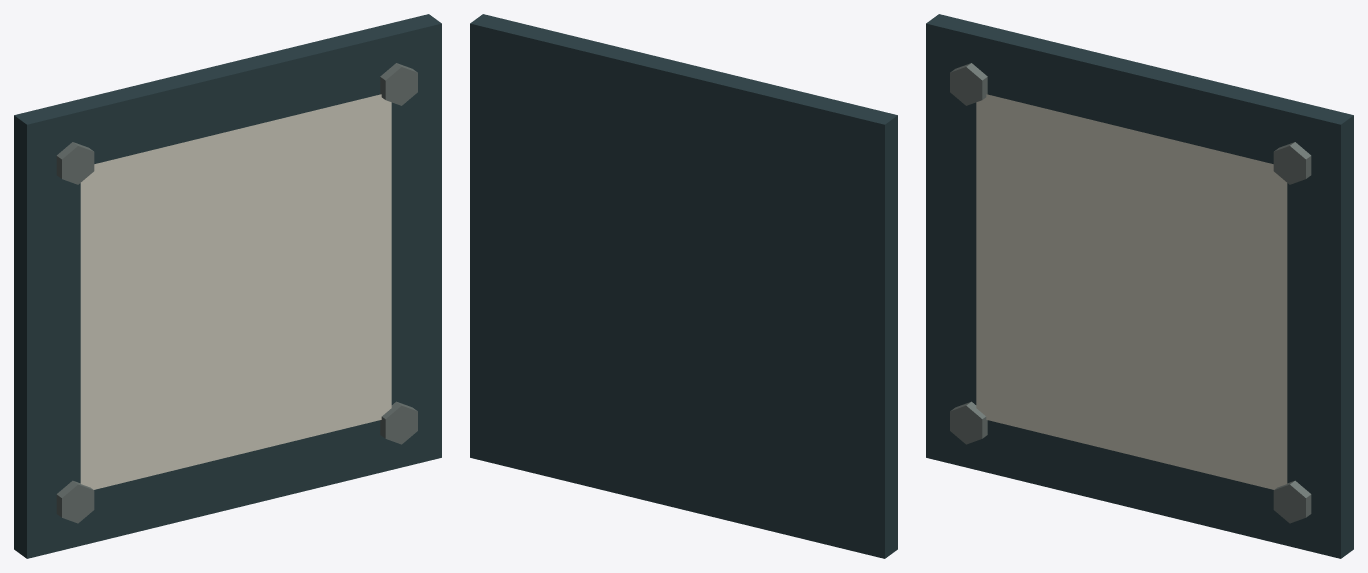
The model's file is number-plate.glb.
3 renders of one model, left to right at view 1: azimuth 30°, elevation 25°; view 2: azimuth 150°, elevation 25°; view 3: azimuth 330°, elevation 25°, orthographic.
Parts seen in each view (by area): view 1: number-plate__number-plate__decal-ivory, number-plate__number-plate__steel, number-plate__number-plate__hardware; view 2: number-plate__number-plate__steel; view 3: number-plate__number-plate__decal-ivory, number-plate__number-plate__steel, number-plate__number-plate__hardware.
Part boxes in pixels (x1,y1,x2,y2): number-plate__number-plate__decal-ivory: (80, 94, 391, 489); number-plate__number-plate__steel: (14, 14, 441, 558); number-plate__number-plate__hardware: (56, 63, 417, 523); number-plate__number-plate__steel: (470, 14, 897, 558); number-plate__number-plate__decal-ivory: (976, 94, 1287, 489); number-plate__number-plate__steel: (926, 14, 1353, 558); number-plate__number-plate__hardware: (950, 63, 1311, 523).
Bounding box in the file's own units: 0.22 × 0.22 × 0.017.
